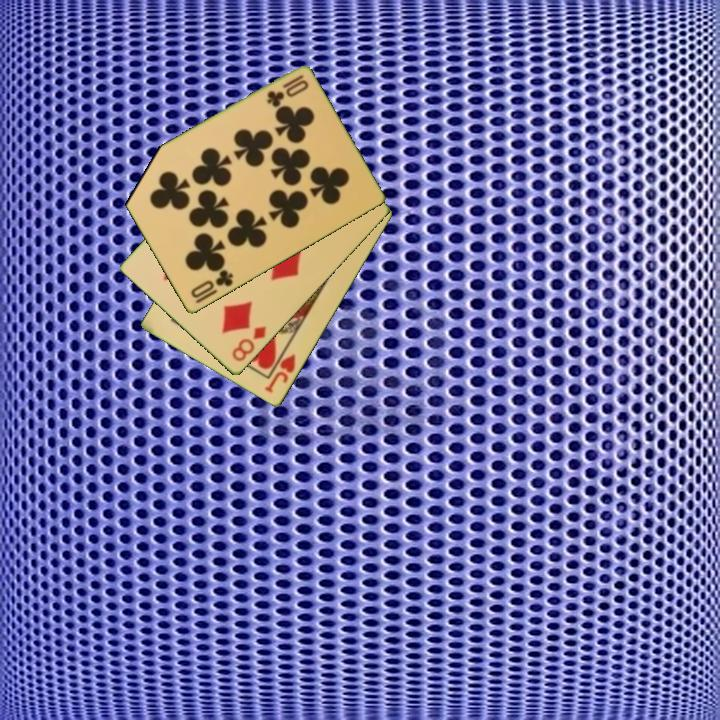10c: (187, 266, 236, 302), (263, 71, 307, 110)
8d: (228, 323, 269, 365)
Jh: (261, 343, 299, 396)
